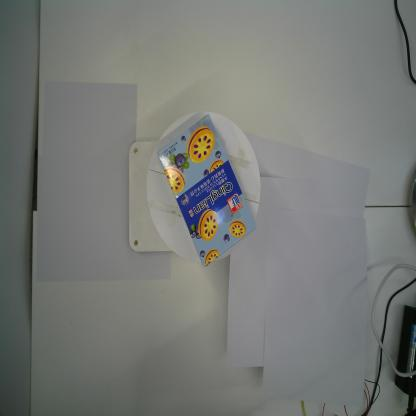Dessert: (157, 114, 257, 267)
